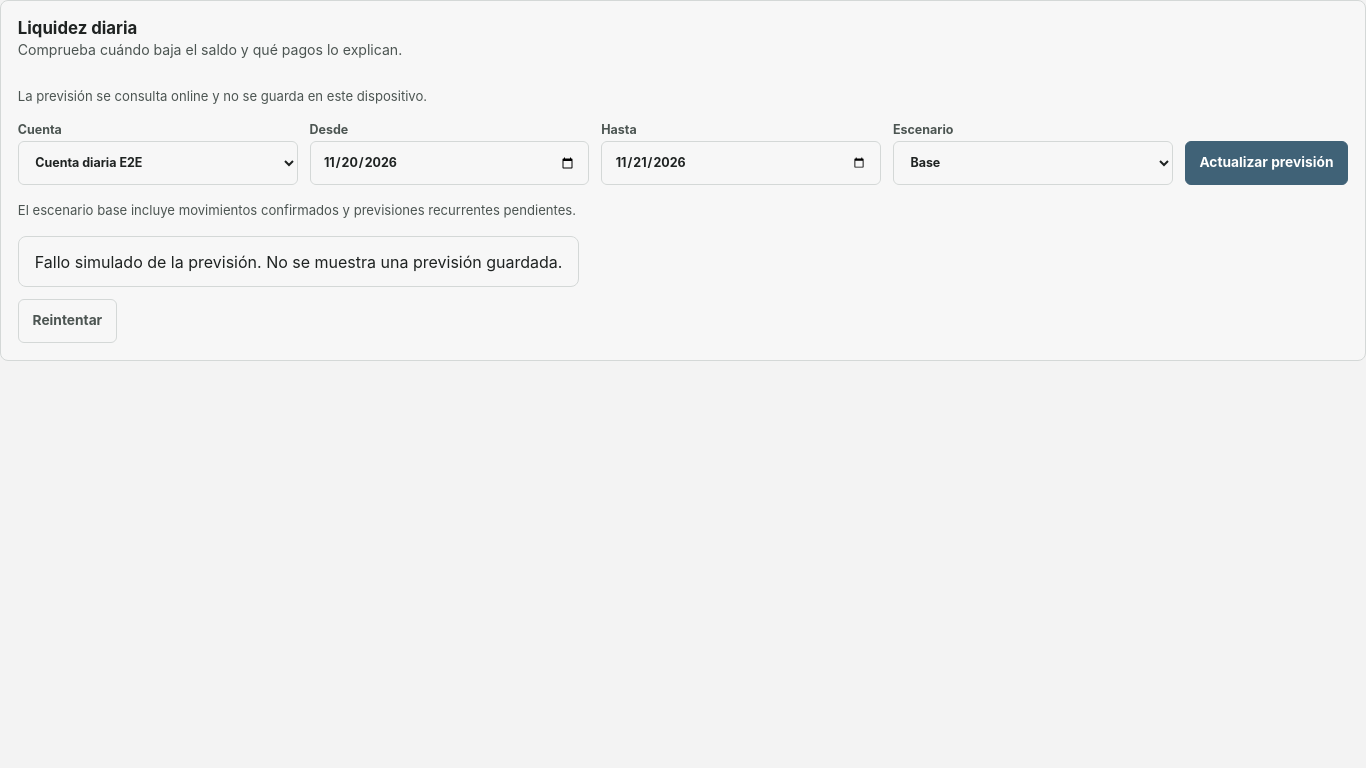
Test: PlanningLiquidityPanel › shows an error without a forecast and retries the server request
expect the message shows "Fallo simulado de la previsión.": met, box left=35, top=252, right=562, bottom=272
expect the message shows "No se muestra una previsión guardada.": met, box left=35, top=252, right=562, bottom=272
Click the button "Reintentar": [67, 321] box left=18, top=299, right=117, bottom=343
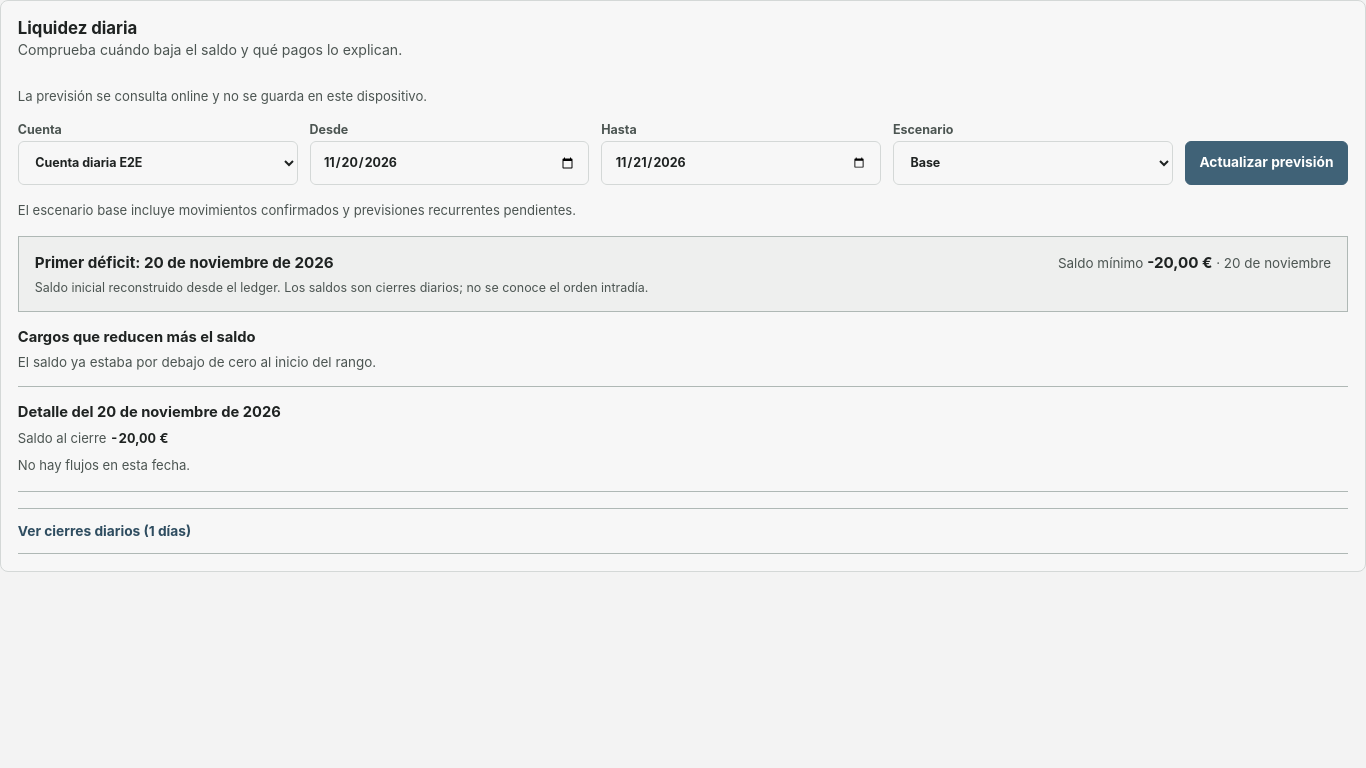
expect the text "Primer déficit:" is shown: met, box left=35, top=253, right=334, bottom=272
